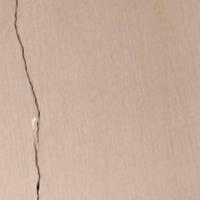crack: (0, 0, 47, 199)
